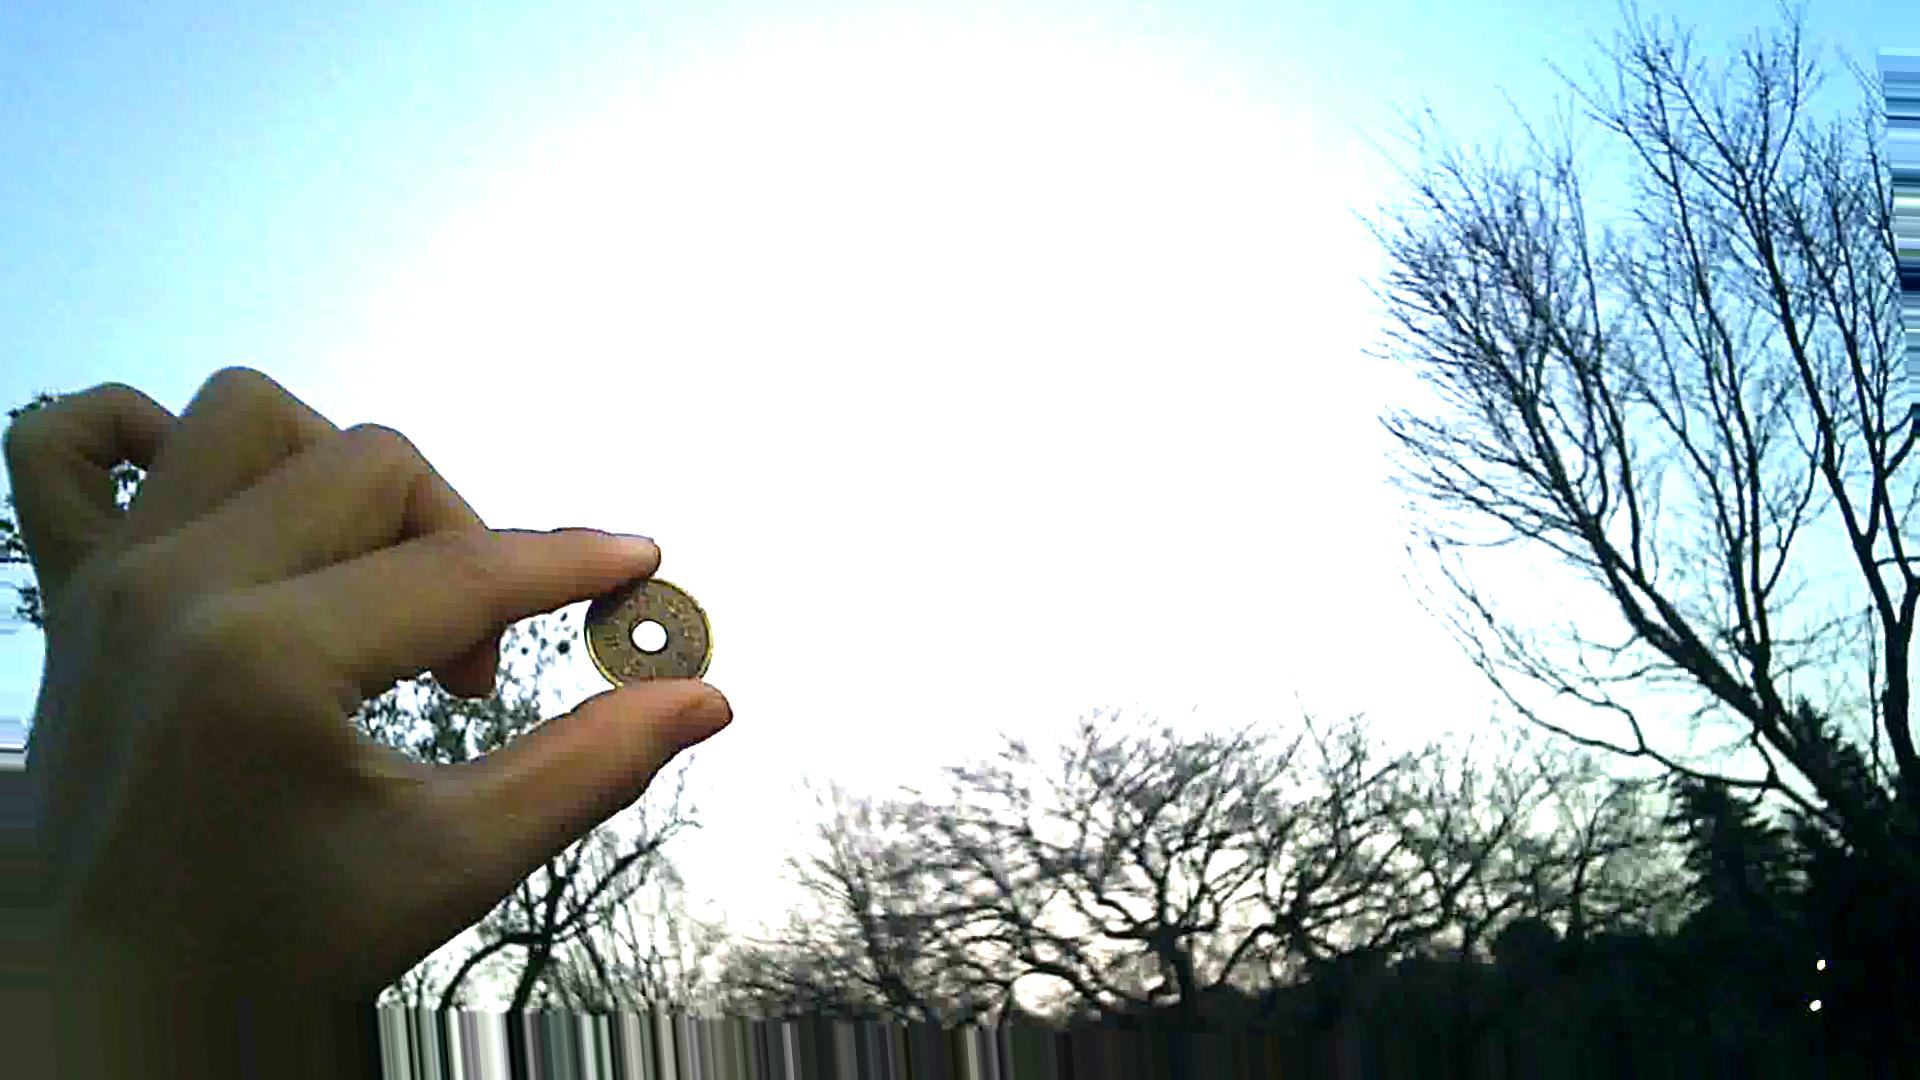5 Yen: (578, 555, 723, 700)
